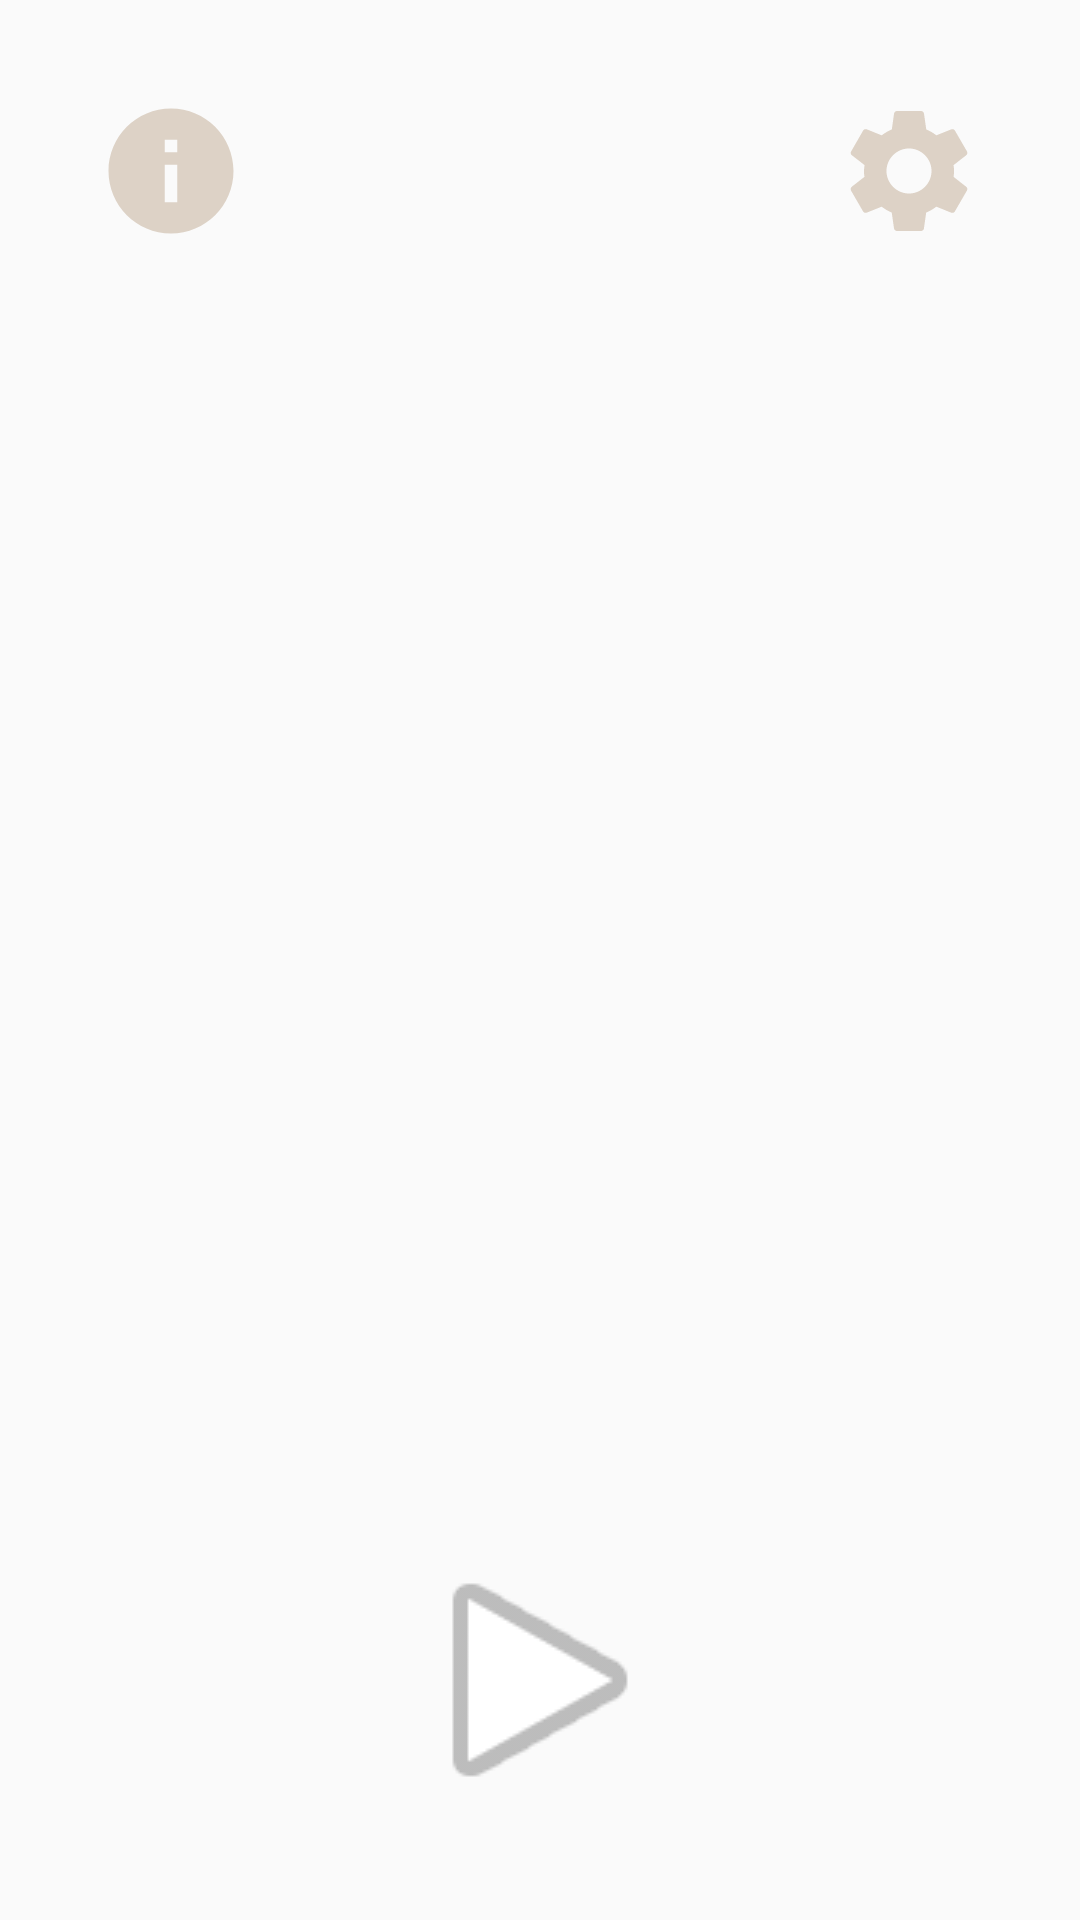

Named icons in this screenshot (1080*1920) and their centers, point (x, y):
about: point (171, 171)
play: point (540, 1680)
settings: point (909, 171)
